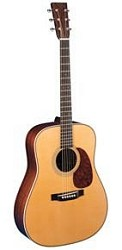guitar: (14, 2, 109, 247)
